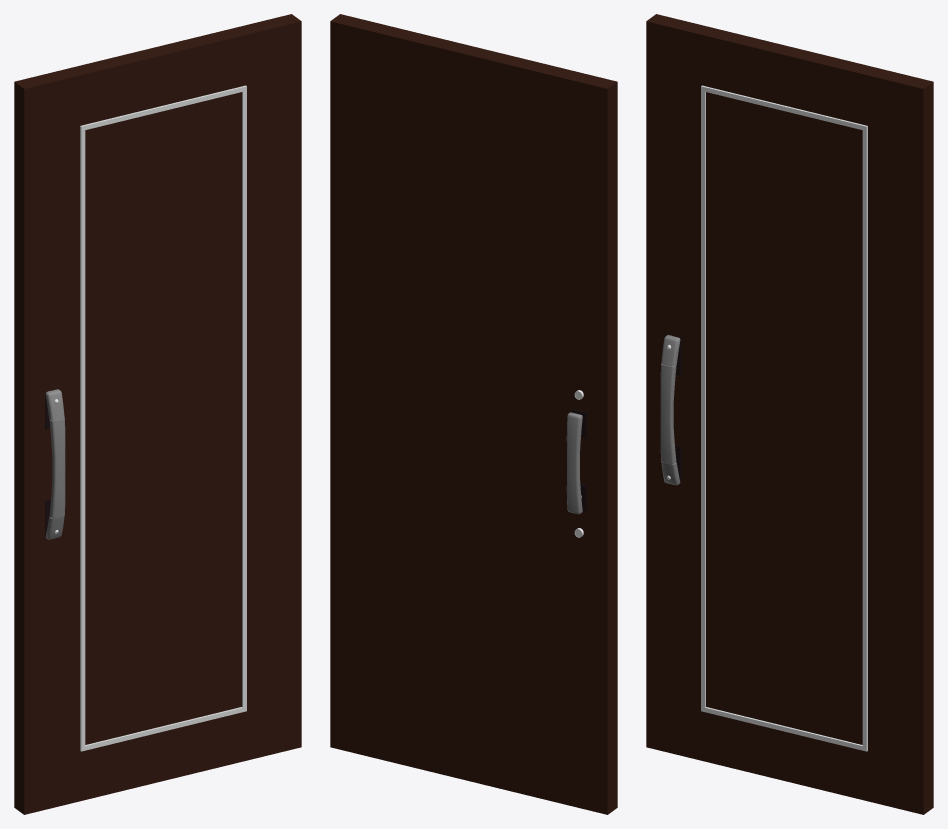
File: Door-2.fbx
The picture shows the model from 3 angles, left to right: view 1: azimuth 30°, elevation 25°; view 2: azimuth 150°, elevation 25°; view 3: azimuth 330°, elevation 25°; orthographic projection.
Visible parts, largest first — view 1: Door-2; view 2: Door-2; view 3: Door-2.
Boxes of the visible parts, x1,y1,x2,y2 form: Door-2: (14,14,301,814); Door-2: (330,14,617,814); Door-2: (646,14,933,814).
Size of the model in its own units: 0.96 by 2.4 by 0.1598.
